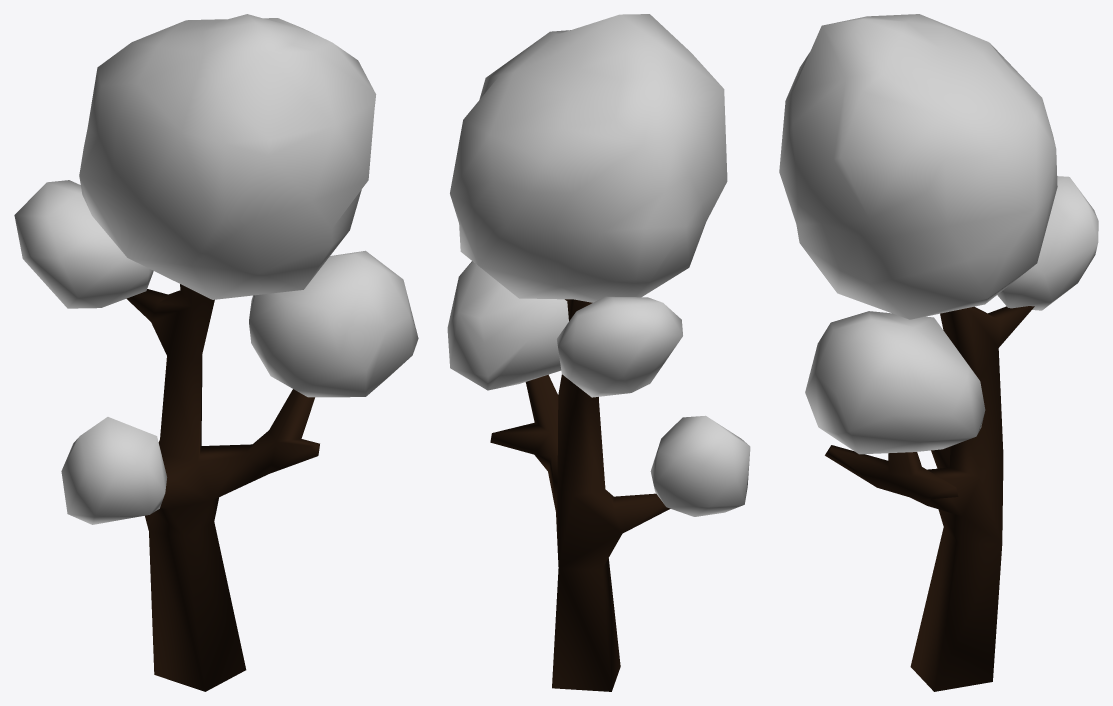
File: tree3.obj
3 renders of one model, left to right at view 1: azimuth 30°, elevation 25°; view 2: azimuth 150°, elevation 25°; view 3: azimuth 270°, elevation 25°, orthographic. The views are drawn at different scales.
Size of the model in its own units: 2.95 by 6 by 2.63.
